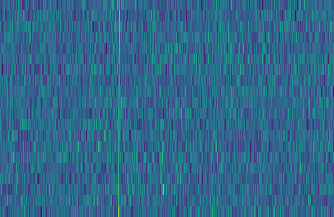signal: (113, 0, 123, 217)
